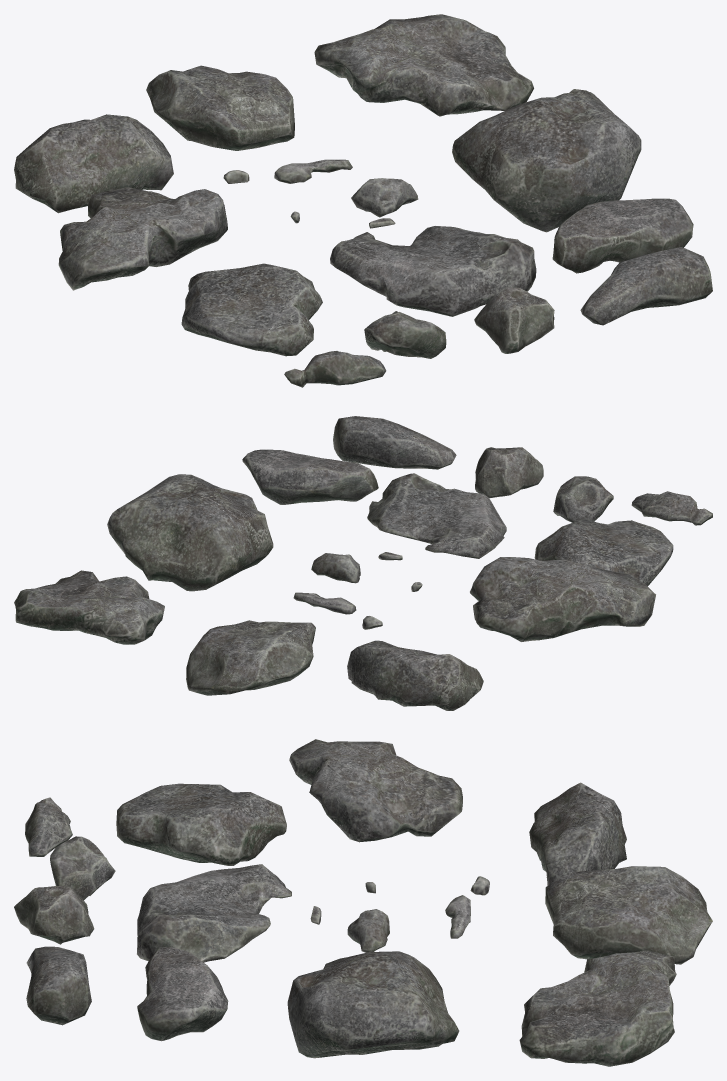
Rendered from free_rock_assets_pack.glb.
3 renders of one model, top to bottom at view 1: azimuth 30°, elevation 25°; view 2: azimuth 150°, elevation 25°; view 3: azimuth 270°, elevation 25°, orthographic. The views are drawn at different scales.
Visible parts, largest first — view 1: Pavementblock.021_4, Pavementblock.032_15, Pavementblock.033_16, Pavementblock.026_9, Pavementblock.031_14, Pavementblock.020_3, Pavementblock.017_0, Pavementblock.025_8, Pavementblock.019_2, Pavementblock.018_1, Pavementblock.030_13, Pavementblock.027_10 (+2 smaller); view 2: Pavementblock.021_4, Pavementblock.026_9, Pavementblock.017_0, Pavementblock.033_16, Pavementblock.032_15, Pavementblock.031_14, Pavementblock.020_3, Pavementblock.025_8, Pavementblock.019_2, Pavementblock.018_1, Pavementblock.030_13, Pavementblock.027_10 (+2 smaller); view 3: Pavementblock.021_4, Pavementblock.032_15, Pavementblock.017_0, Pavementblock.026_9, Pavementblock.020_3, Pavementblock.033_16, Pavementblock.031_14, Pavementblock.025_8, Pavementblock.019_2, Pavementblock.018_1, Pavementblock.030_13, Pavementblock.027_10 (+2 smaller).
Part boxes in pixels (x1=…): Pavementblock.021_4: x1=452, y1=89, x2=641, y2=232; Pavementblock.032_15: x1=314, y1=14, x2=533, y2=116; Pavementblock.033_16: x1=330, y1=226, x2=536, y2=316; Pavementblock.026_9: x1=58, y1=187, x2=227, y2=290; Pavementblock.031_14: x1=14, y1=114, x2=173, y2=213; Pavementblock.020_3: x1=181, y1=263, x2=322, y2=356; Pavementblock.017_0: x1=146, y1=65, x2=294, y2=150; Pavementblock.025_8: x1=552, y1=198, x2=693, y2=273; Pavementblock.019_2: x1=580, y1=247, x2=712, y2=325; Pavementblock.018_1: x1=474, y1=287, x2=554, y2=353; Pavementblock.030_13: x1=364, y1=311, x2=446, y2=358; Pavementblock.027_10: x1=284, y1=351, x2=386, y2=387; Pavementblock.021_4: x1=107, y1=474, x2=273, y2=591; Pavementblock.026_9: x1=470, y1=557, x2=655, y2=641; Pavementblock.017_0: x1=186, y1=620, x2=315, y2=695; Pavementblock.033_16: x1=367, y1=473, x2=506, y2=558; Pavementblock.032_15: x1=14, y1=570, x2=164, y2=644; Pavementblock.031_14: x1=347, y1=640, x2=483, y2=710; Pavementblock.020_3: x1=534, y1=519, x2=673, y2=586; Pavementblock.025_8: x1=242, y1=449, x2=378, y2=504; Pavementblock.019_2: x1=333, y1=416, x2=456, y2=469; Pavementblock.018_1: x1=475, y1=447, x2=543, y2=498; Pavementblock.030_13: x1=553, y1=476, x2=613, y2=522; Pavementblock.027_10: x1=631, y1=491, x2=712, y2=525; Pavementblock.021_4: x1=287, y1=951, x2=459, y2=1058; Pavementblock.032_15: x1=519, y1=950, x2=676, y2=1066; Pavementblock.017_0: x1=545, y1=866, x2=712, y2=964; Pavementblock.026_9: x1=289, y1=739, x2=462, y2=842; Pavementblock.020_3: x1=116, y1=783, x2=286, y2=865; Pavementblock.033_16: x1=137, y1=864, x2=291, y2=962; Pavementblock.031_14: x1=529, y1=782, x2=626, y2=885; Pavementblock.025_8: x1=137, y1=946, x2=228, y2=1041; Pavementblock.019_2: x1=26, y1=946, x2=91, y2=1025; Pavementblock.018_1: x1=14, y1=886, x2=94, y2=944; Pavementblock.030_13: x1=50, y1=836, x2=115, y2=900; Pavementblock.027_10: x1=25, y1=797, x2=72, y2=856.
Bounding box in the file's own units: 1.24 × 0.1979 × 1.31.
1 material, 1 textured.
